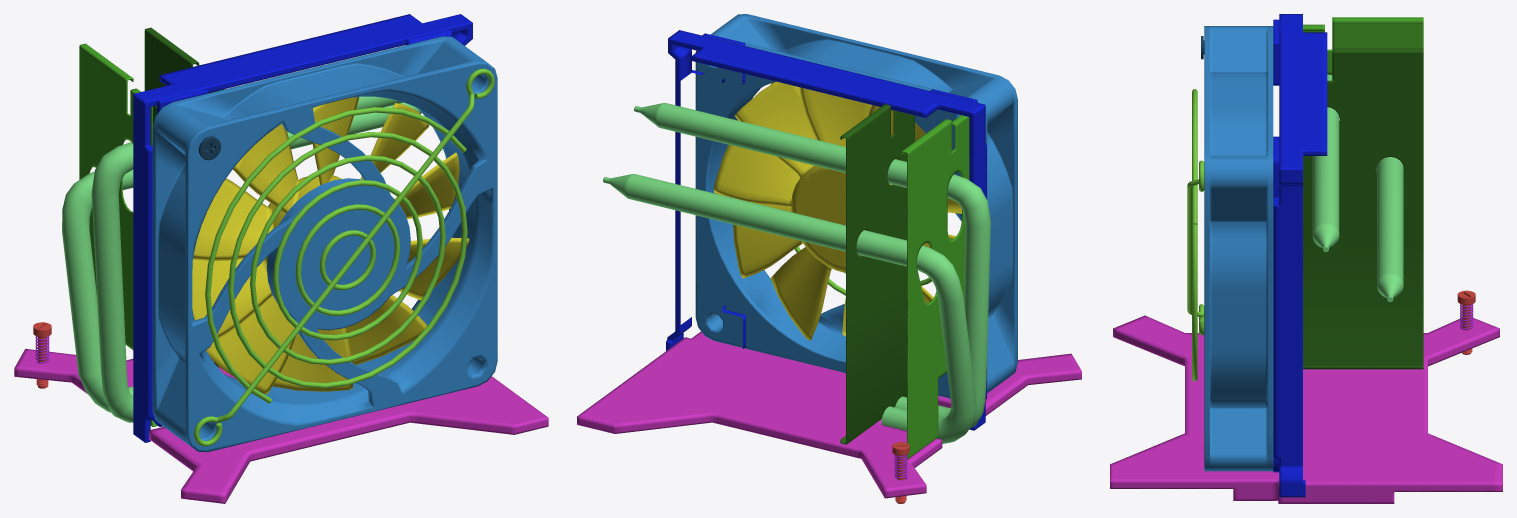
Rendered from ventilator5.glb.
3 renders of one model, left to right at view 1: azimuth 30°, elevation 25°; view 2: azimuth 150°, elevation 25°; view 3: azimuth 270°, elevation 25°, orthographic. The views are drawn at different scales.
Parts seen in each view (by area): view 1: ventilator, blades, zastita, nosac, cev, baza, hladnjak_velika _rupa, hladnjak_mala_rupa; view 2: ventilator, baza, cev, blades, hladnjak_mala_rupa, hladnjak_velika _rupa, nosac; view 3: baza, ventilator, hladnjak_mala_rupa, nosac, cev, hladnjak_velika _rupa, zastita, sraf_kuler.
Part boxes in pixels (x1=…): ventilator: x1=152, y1=36, x2=497, y2=452; blades: x1=192, y1=97, x2=469, y2=394; zastita: x1=194, y1=68, x2=494, y2=446; nosac: x1=133, y1=14, x2=472, y2=442; cev: x1=62, y1=96, x2=421, y2=422; baza: x1=14, y1=349, x2=548, y2=503; hladnjak_velika _rupa: x1=79, y1=43, x2=157, y2=426; hladnjak_mala_rupa: x1=144, y1=27, x2=224, y2=367; ventilator: x1=695, y1=14, x2=1017, y2=398; baza: x1=577, y1=331, x2=1081, y2=498; cev: x1=603, y1=103, x2=990, y2=443; blades: x1=713, y1=81, x2=961, y2=340; hladnjak_mala_rupa: x1=840, y1=104, x2=914, y2=444; hladnjak_velika _rupa: x1=901, y1=115, x2=969, y2=459; nosac: x1=666, y1=30, x2=986, y2=430; baza: x1=1110, y1=315, x2=1502, y2=503; ventilator: x1=1204, y1=26, x2=1273, y2=471; hladnjak_mala_rupa: x1=1303, y1=48, x2=1423, y2=369; nosac: x1=1273, y1=14, x2=1327, y2=497; cev: x1=1312, y1=74, x2=1403, y2=302; hladnjak_velika _rupa: x1=1303, y1=17, x2=1423, y2=170; zastita: x1=1187, y1=89, x2=1204, y2=381; sraf_kuler: x1=1457, y1=290, x2=1475, y2=354.
Bounding box in the file's own units: 4.83 × 4.25 × 4.41.
